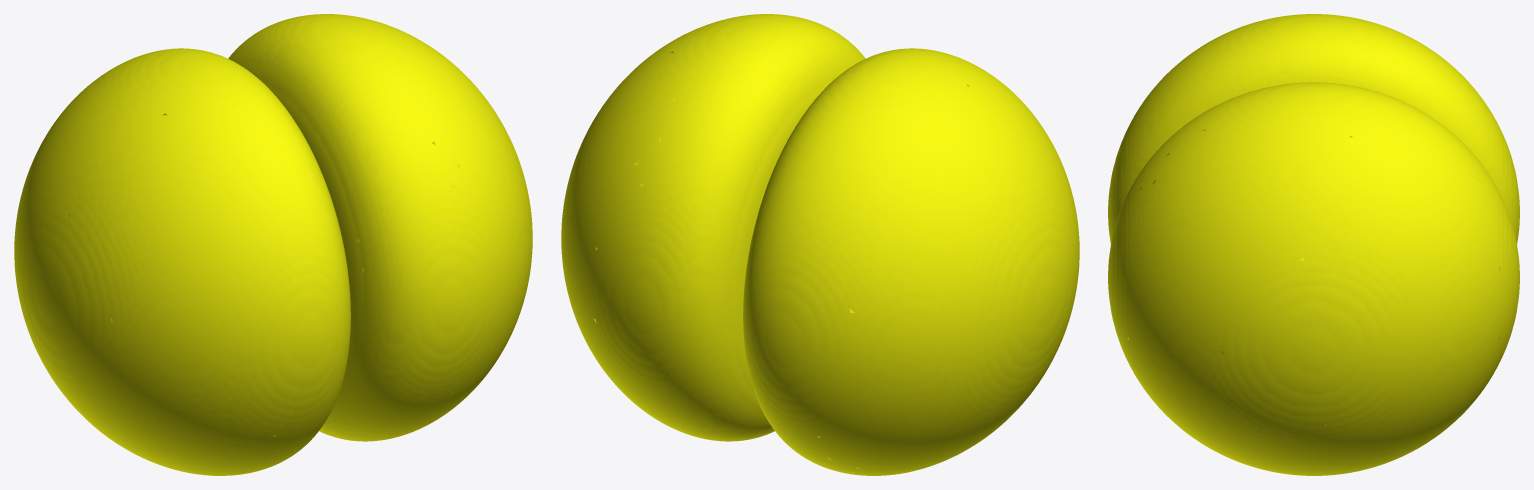
The model's file is orb_n=4_ l=1 _m=1.fbx.
3 views of the same model, side by side, from view 1: azimuth 30°, elevation 25°; view 2: azimuth 150°, elevation 25°; view 3: azimuth 270°, elevation 25° (orthographic). The views are drawn at different scales.
Parts seen in each view (by area): view 1: orb_n=4_ l=1 _m=1; view 2: orb_n=4_ l=1 _m=1; view 3: orb_n=4_ l=1 _m=1.
Part boxes in pixels (x1=…): orb_n=4_ l=1 _m=1: x1=14, y1=14, x2=532, y2=475; orb_n=4_ l=1 _m=1: x1=561, y1=14, x2=1079, y2=475; orb_n=4_ l=1 _m=1: x1=1108, y1=14, x2=1519, y2=475.
Size of the model in its own units: 10333 by 8491 by 8491.
